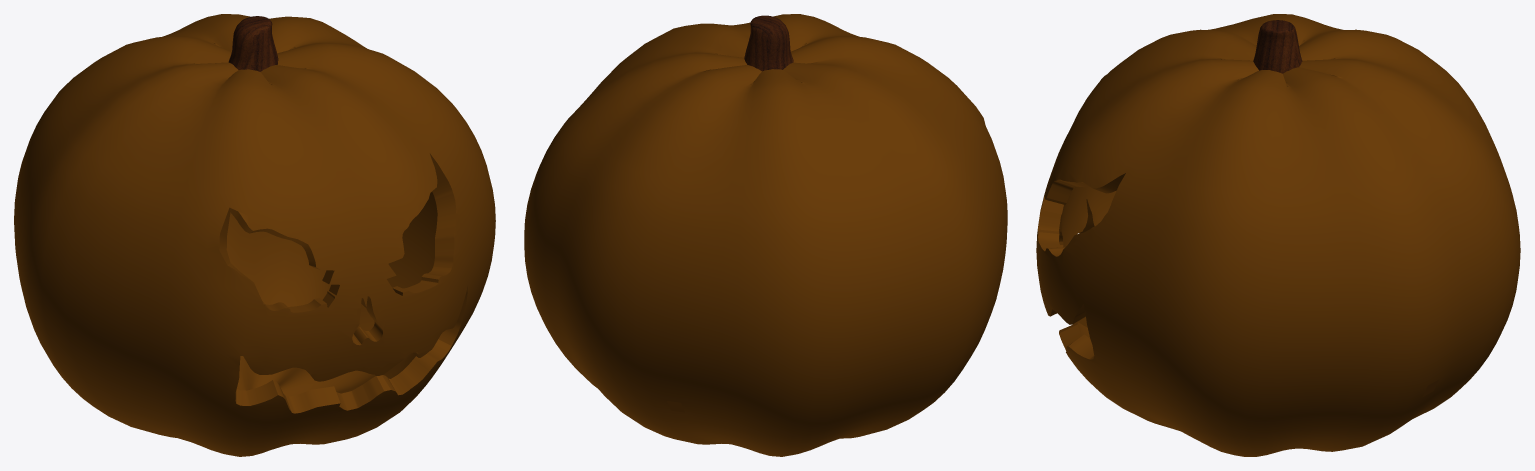
The model's file is pumpkin.fbx.
3 renders of one model, left to right at view 1: azimuth 30°, elevation 25°; view 2: azimuth 150°, elevation 25°; view 3: azimuth 270°, elevation 25°, orthographic.
Visible parts, largest first — view 1: g; view 2: g; view 3: g.
Boxes of the visible parts, x1,y1,x2,y2 form: g: (14, 14, 495, 456); g: (524, 14, 1007, 456); g: (1036, 14, 1520, 456).
Size of the model in its own units: 200 by 183 by 198.
